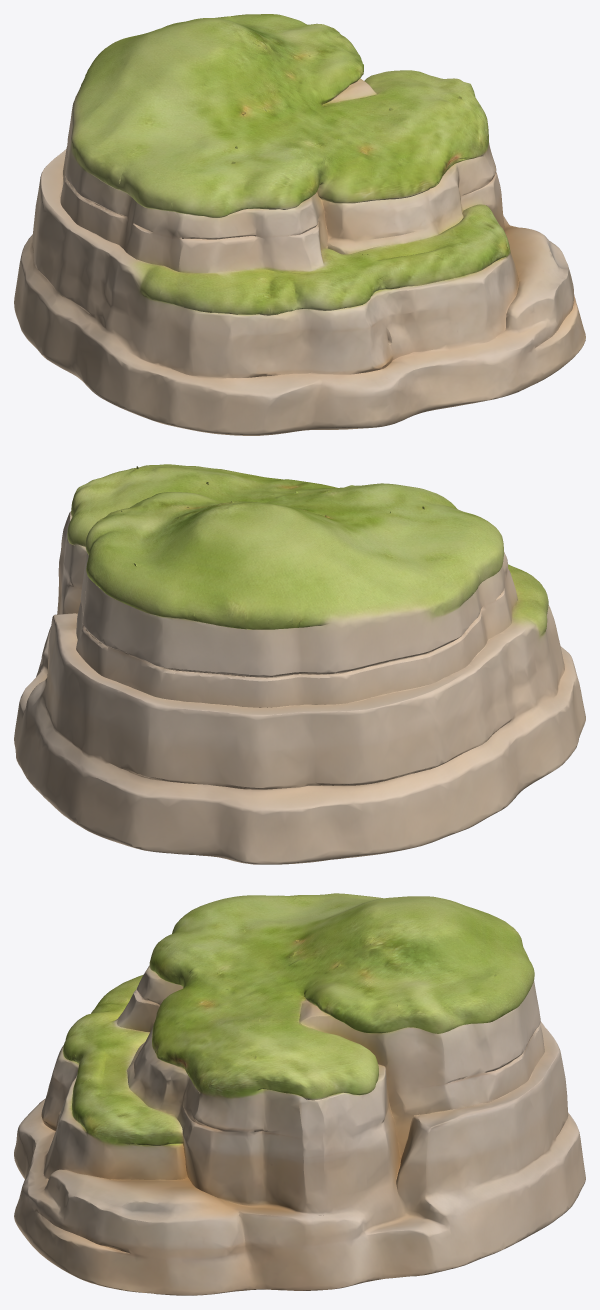
The model's file is toy-coastal-bluff-raw.glb.
3 views of the same model, one above another, from view 1: azimuth 30°, elevation 25°; view 2: azimuth 150°, elevation 25°; view 3: azimuth 270°, elevation 25° (orthographic). The views are drawn at different scales.
Parts seen in each view (by area): view 1: model; view 2: model; view 3: model.
Boxes of the visible parts, bbox=[...] form: model: bbox=[14, 14, 585, 435]; model: bbox=[14, 464, 585, 864]; model: bbox=[14, 893, 585, 1295].
Bounding box in the file's own units: 1.76 × 0.9498 × 1.9.
Materials: 1 (1 with a texture image).
